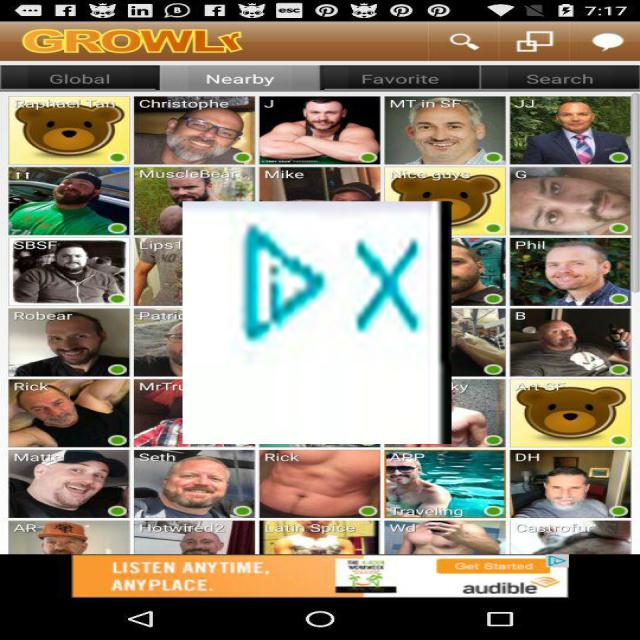sneaking: (182, 201, 452, 444)
